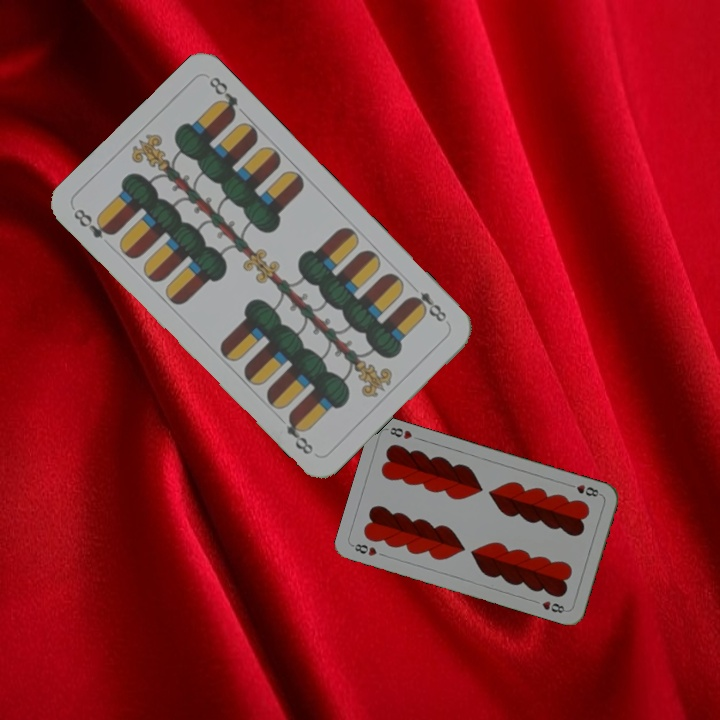E8: (69, 204, 117, 242), (405, 288, 449, 325)
H8: (564, 480, 604, 500), (348, 540, 380, 559)
